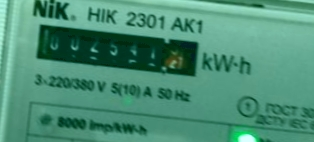0: (44, 29, 60, 51), (65, 29, 80, 51)
1: (144, 40, 157, 61)
2: (85, 32, 100, 54)
4: (125, 36, 139, 59)
5: (104, 34, 119, 57)
6: (165, 54, 178, 70)
screen: (22, 11, 209, 87)
